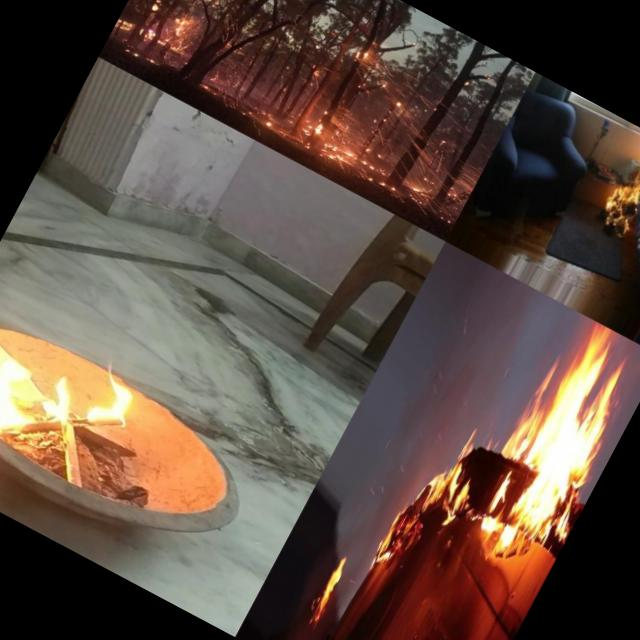fire: (457, 312, 640, 572), (0, 298, 166, 501), (368, 411, 501, 585), (352, 156, 461, 228), (302, 536, 362, 628), (597, 130, 640, 238), (159, 5, 202, 57), (114, 13, 158, 48), (292, 112, 328, 153), (317, 137, 358, 171), (122, 44, 163, 72), (196, 79, 221, 100), (258, 112, 280, 134), (351, 44, 371, 64), (145, 0, 165, 16), (394, 98, 404, 110)
